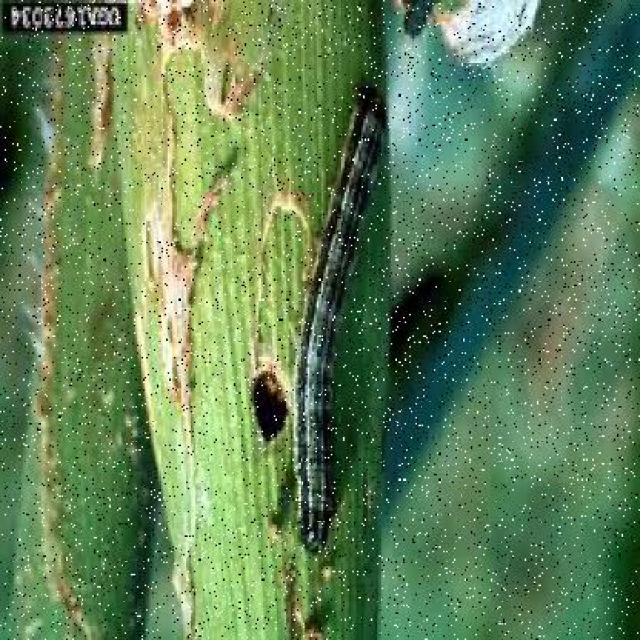Plaga: (283, 86, 392, 569)
